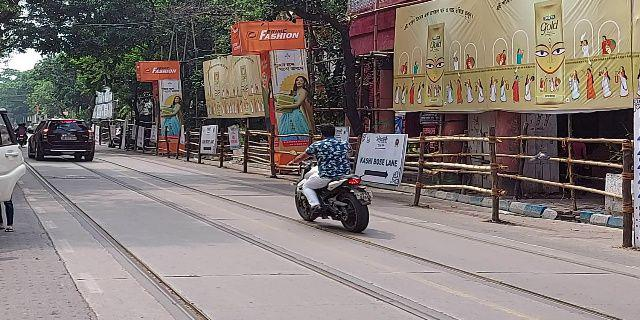Car: (26, 117, 96, 165)
Motorbike: (285, 122, 378, 236)
